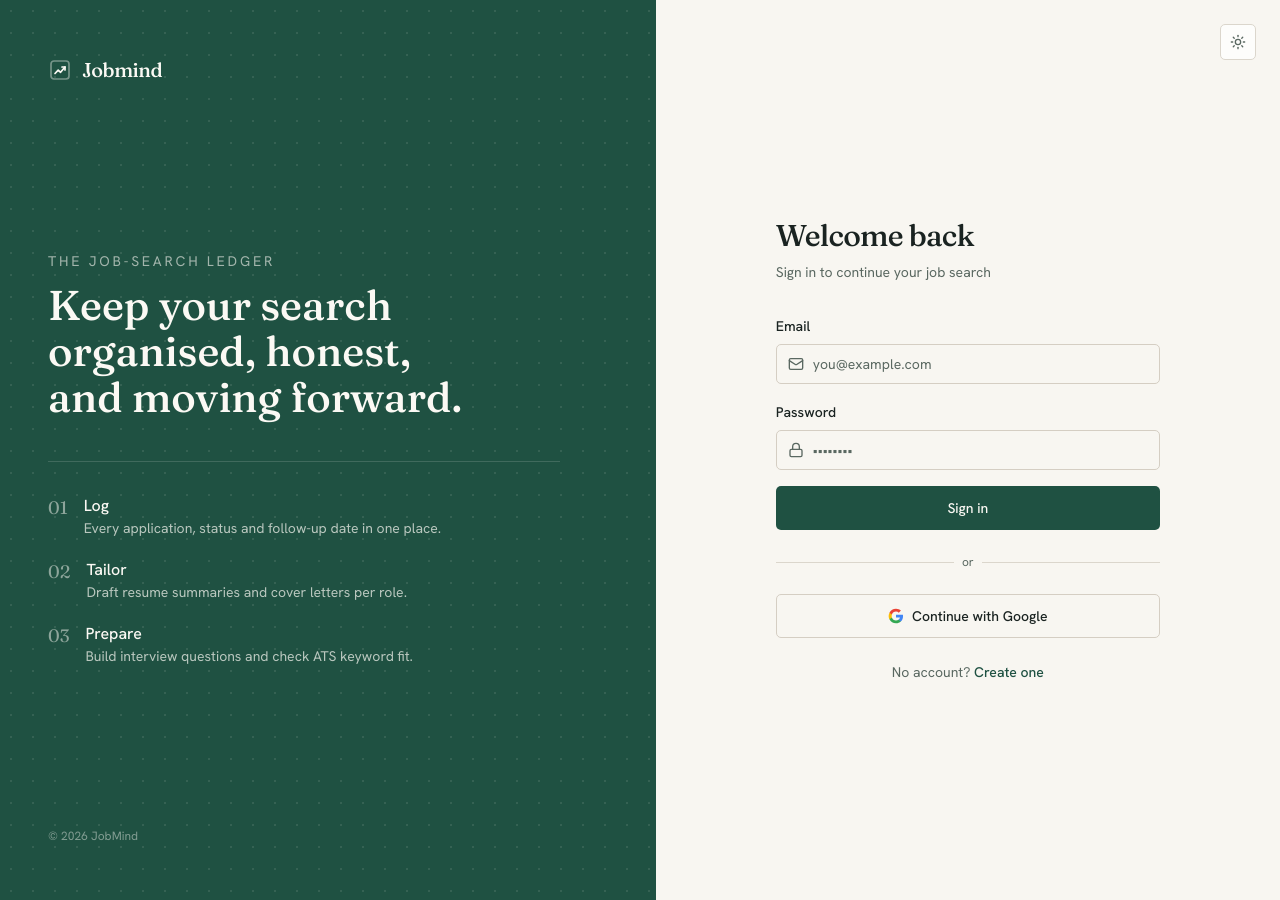
Test: Login Component › should show error message on failed login
This screenshot has width=1280, height=900.
In the field labelled "Email": (968, 364) [776,344,1160,384], type "test@example.com"
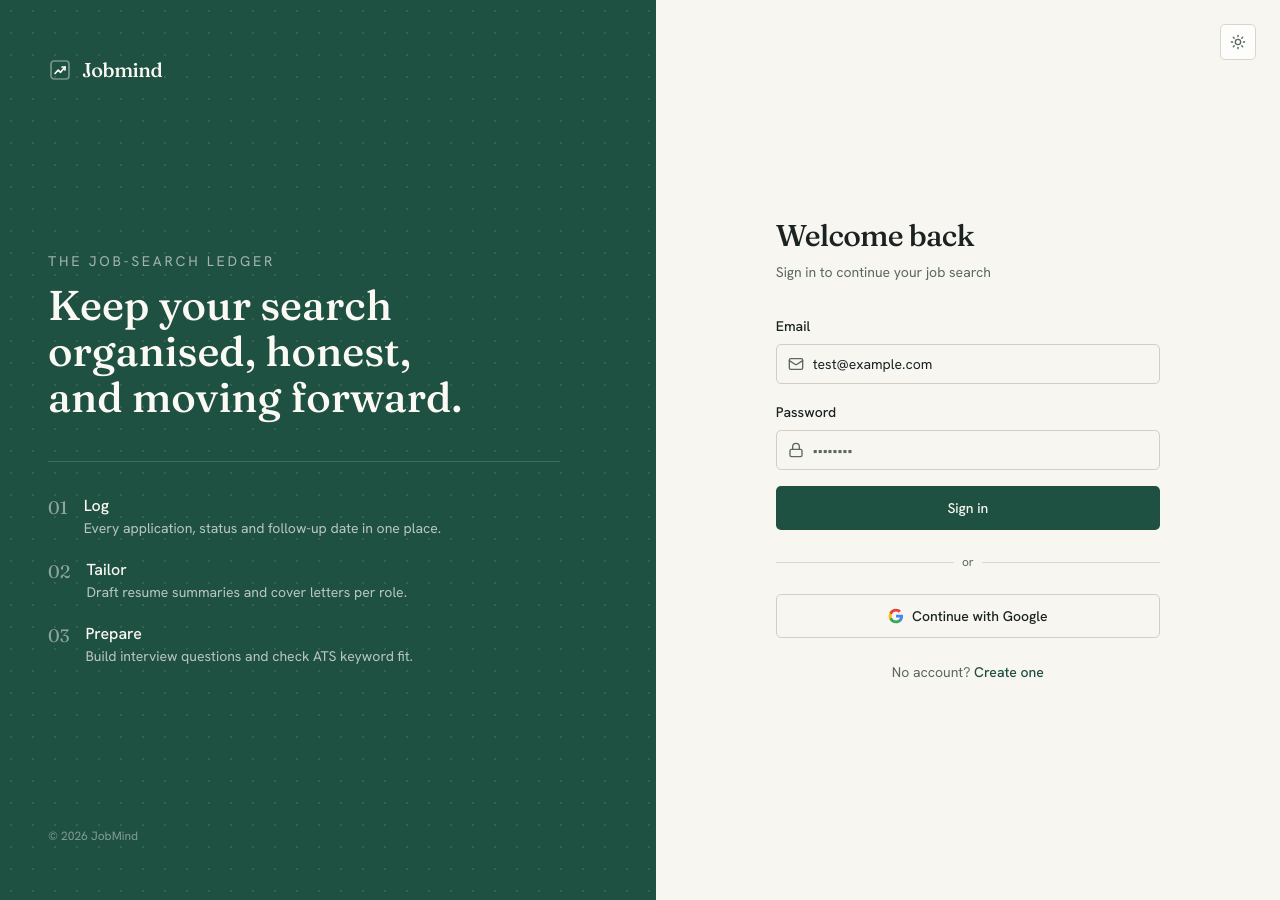
In the password field labelled "Password": (968, 450) [776,430,1160,470], type "password123"
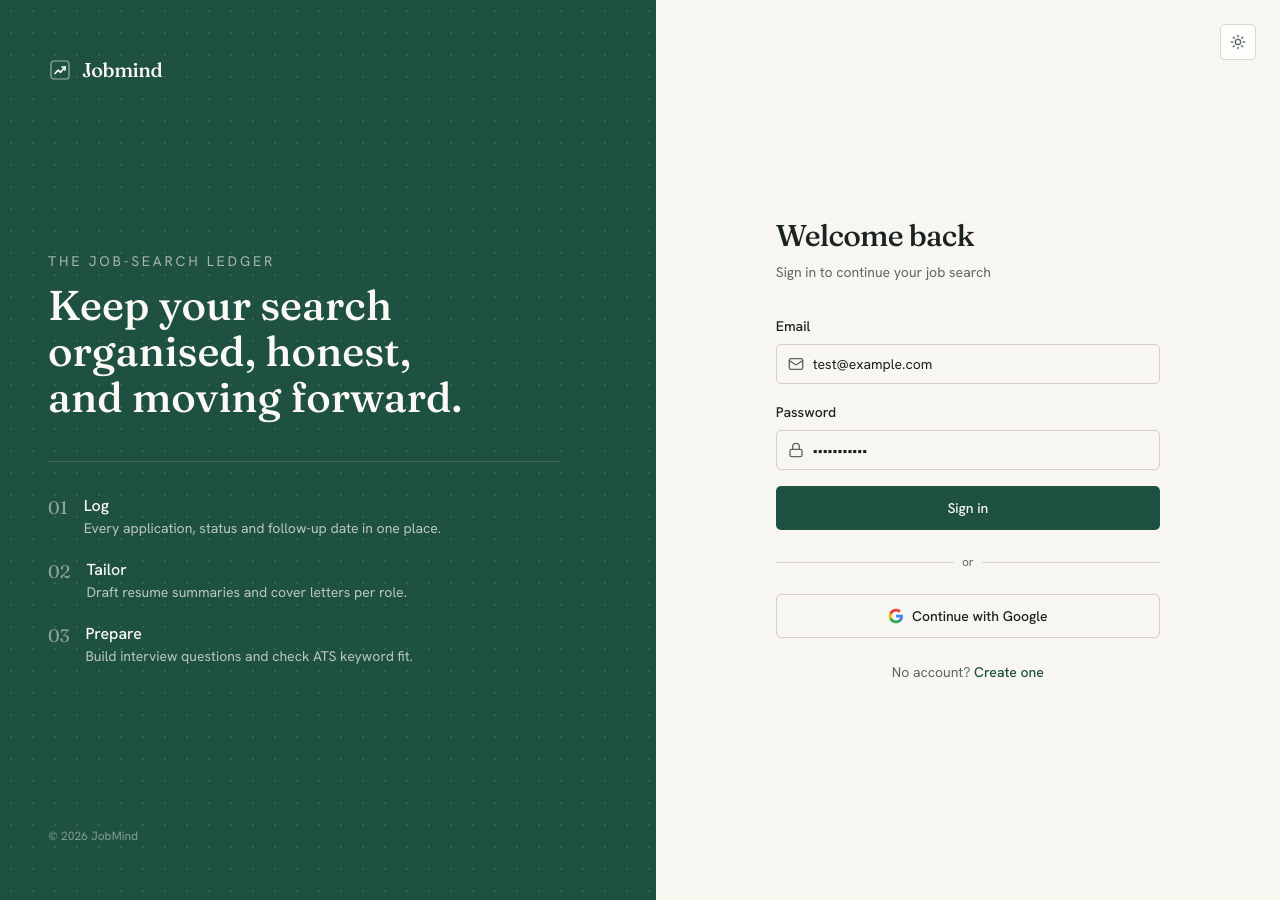
Submit the form from the button "Sign in", box [776,486,1160,530]
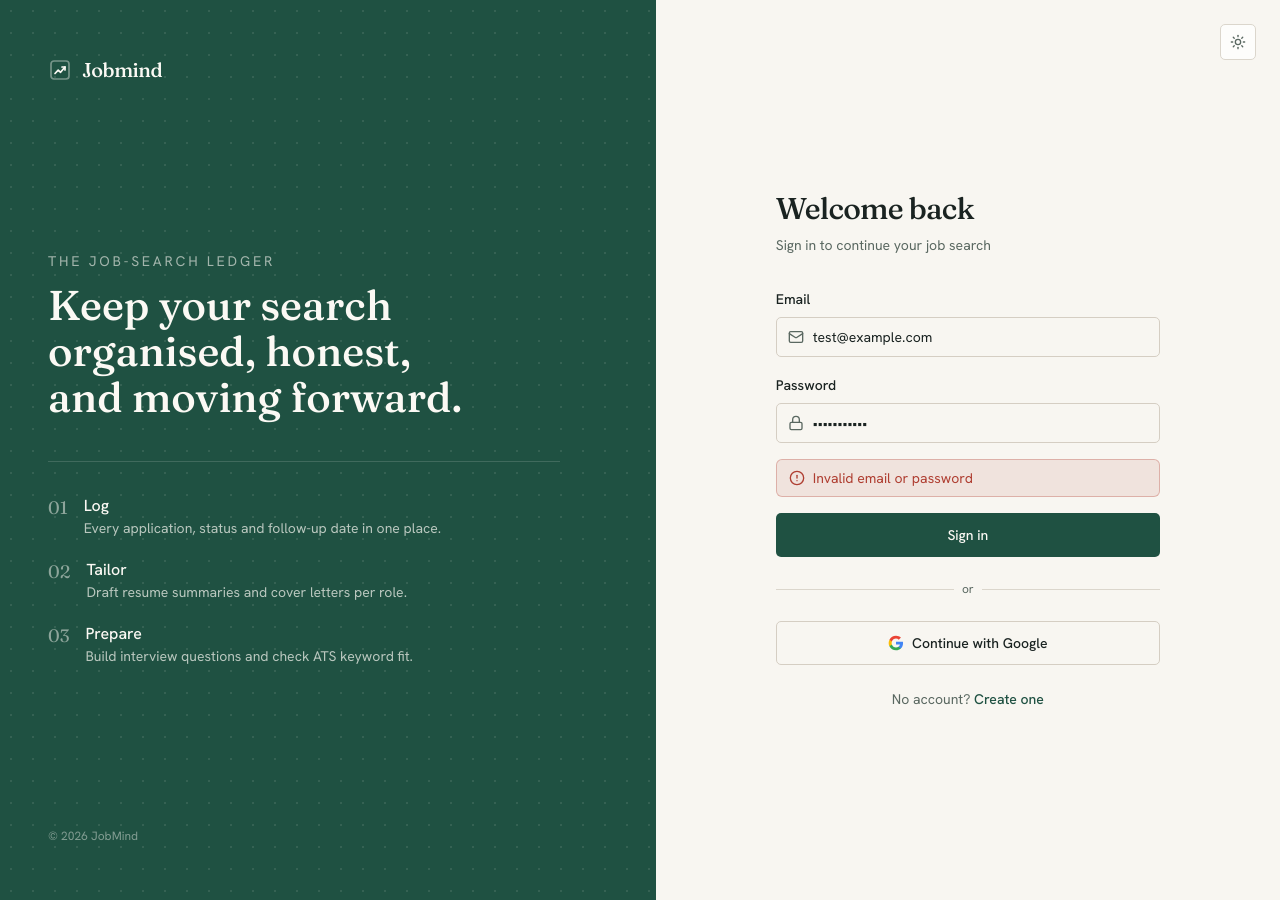
expect the text "Invalid email or password" is shown: met, box [776,459,1160,497]
